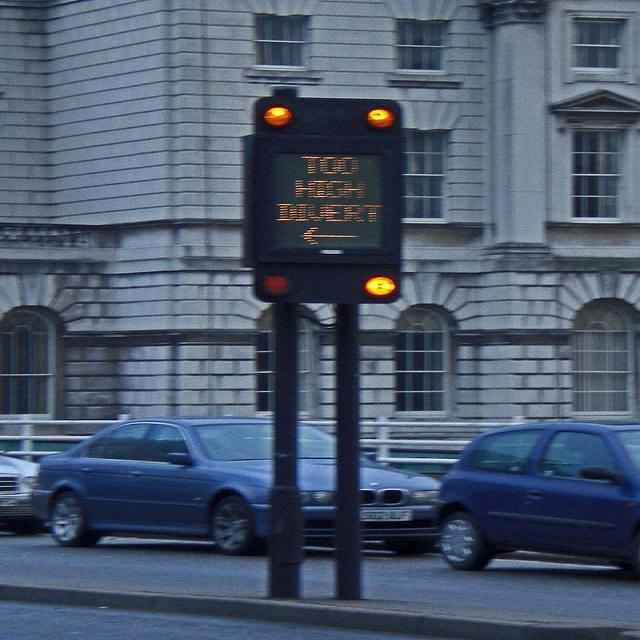Vehicle: (30, 415, 450, 558), (431, 422, 640, 572), (0, 450, 45, 530)
